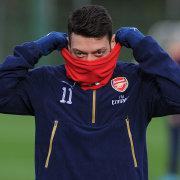OK: (71, 38, 111, 78)
